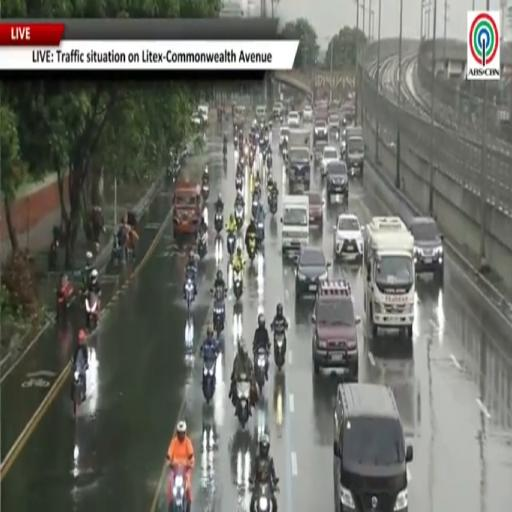car: (334, 383, 413, 511), (312, 280, 360, 381), (408, 217, 444, 282), (295, 246, 330, 299), (334, 214, 363, 262), (326, 162, 348, 203), (307, 190, 323, 228), (321, 146, 339, 175), (313, 119, 328, 145), (314, 141, 327, 169), (328, 114, 341, 141), (279, 125, 289, 150), (288, 111, 300, 127), (273, 102, 283, 120), (303, 105, 312, 122)
motorcycle: (169, 466, 187, 511), (212, 287, 226, 339), (236, 376, 250, 427), (251, 483, 276, 511), (72, 367, 84, 417), (57, 282, 73, 319), (203, 360, 215, 404), (255, 348, 267, 392), (85, 293, 99, 329), (274, 330, 285, 370), (111, 233, 125, 264), (48, 239, 58, 271), (185, 277, 194, 311), (197, 232, 207, 259), (227, 232, 236, 260), (233, 272, 242, 299), (235, 205, 244, 231), (248, 235, 256, 262), (256, 216, 264, 243), (268, 194, 278, 215), (252, 194, 260, 218), (236, 158, 245, 179), (215, 212, 223, 234), (201, 182, 209, 200), (236, 175, 243, 191), (266, 152, 272, 169), (282, 146, 287, 161), (223, 143, 227, 157), (234, 135, 238, 147)
truck: (363, 217, 415, 339), (280, 194, 310, 260), (287, 131, 312, 194), (343, 126, 364, 177)
